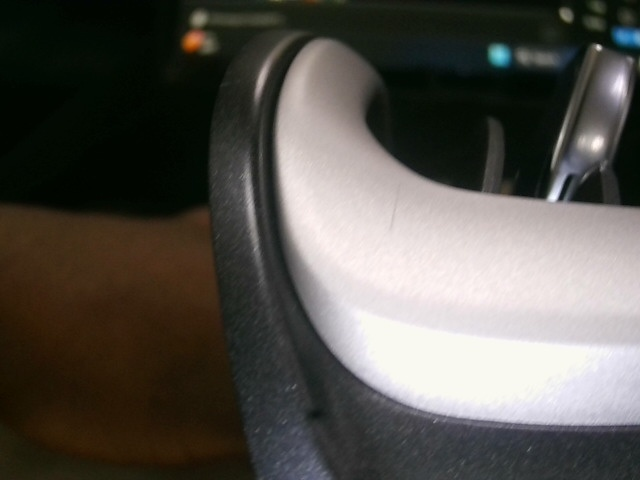NG: (382, 178, 409, 235), (214, 77, 241, 116)
